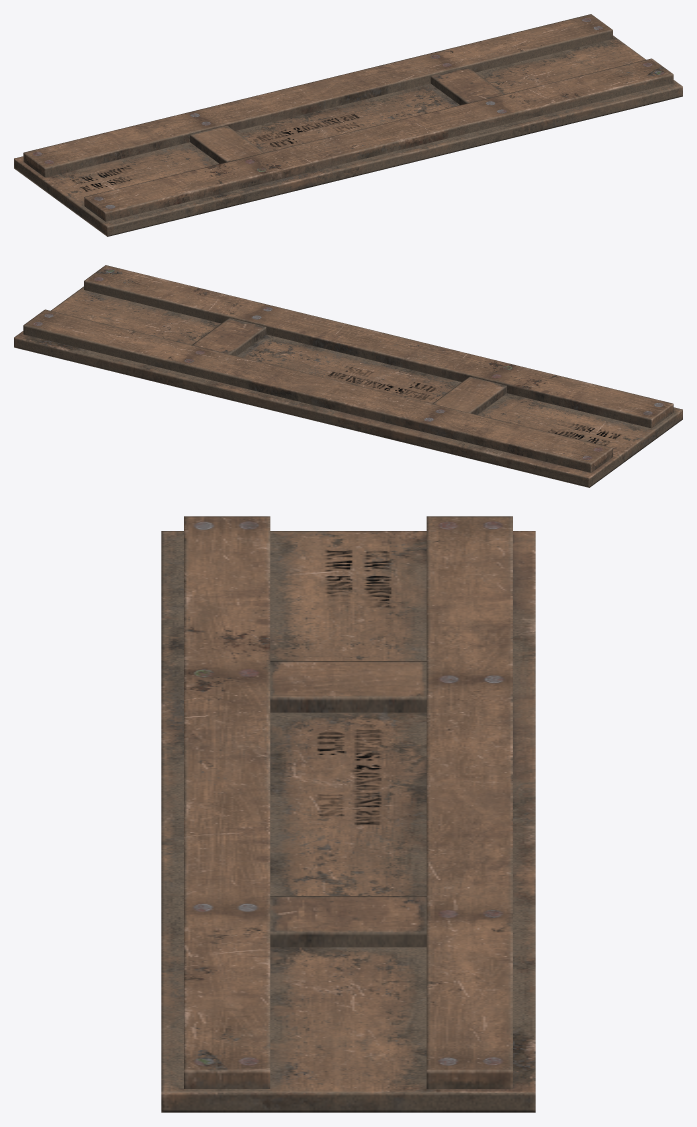
The picture shows the model from 3 angles, top to bottom: view 1: azimuth 30°, elevation 25°; view 2: azimuth 150°, elevation 25°; view 3: azimuth 270°, elevation 25°; orthographic projection. The views are drawn at different scales.
Parts seen in each view (by area): view 1: SM_Box01_3_LOD0; view 2: SM_Box01_3_LOD0; view 3: SM_Box01_3_LOD0.
Boxes of the visible parts, <box> form: SM_Box01_3_LOD0: <box>14,14,682,236</box>; SM_Box01_3_LOD0: <box>14,265,682,487</box>; SM_Box01_3_LOD0: <box>161,516,535,1112</box>.
Size of the model in its own units: 2 by 0.0634 by 0.5628.
1 material, 1 textured.
